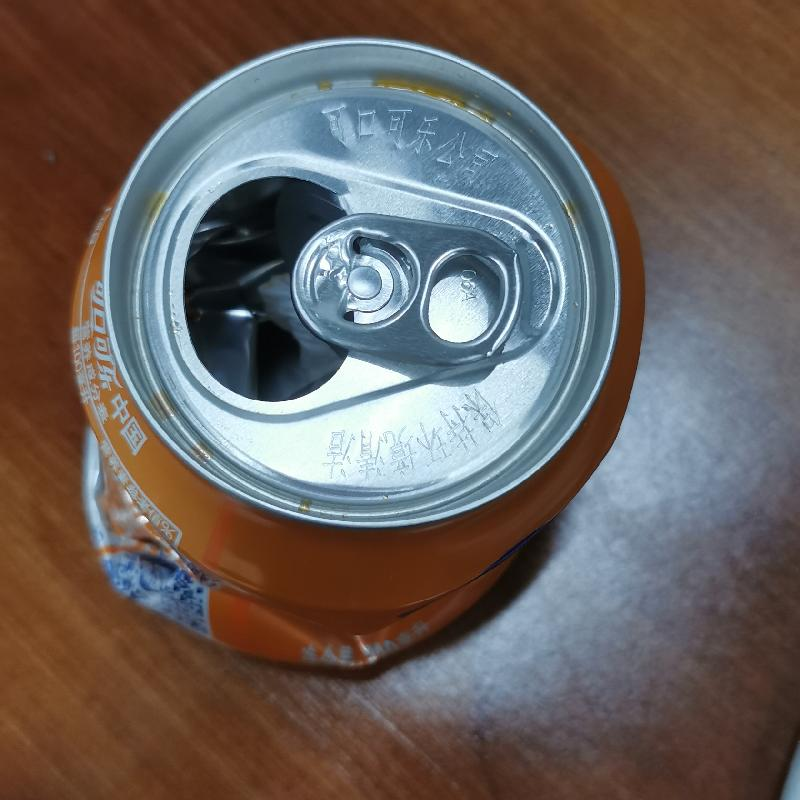cans: (65, 37, 652, 676)
